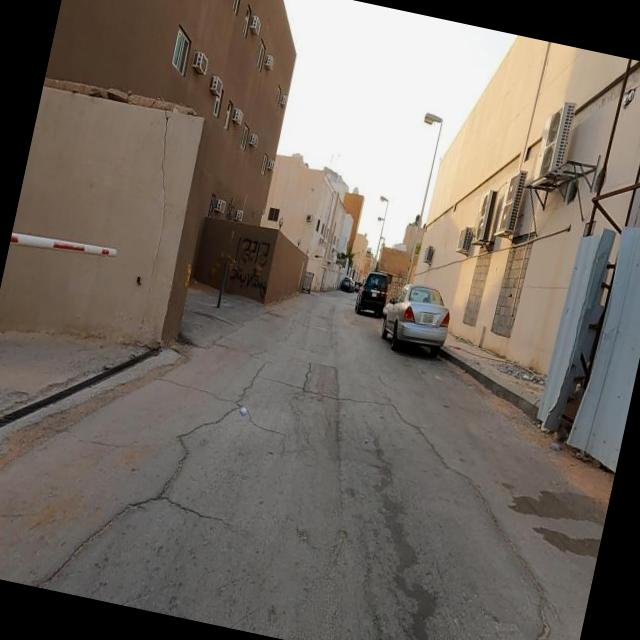debris: (171, 184, 326, 360)
